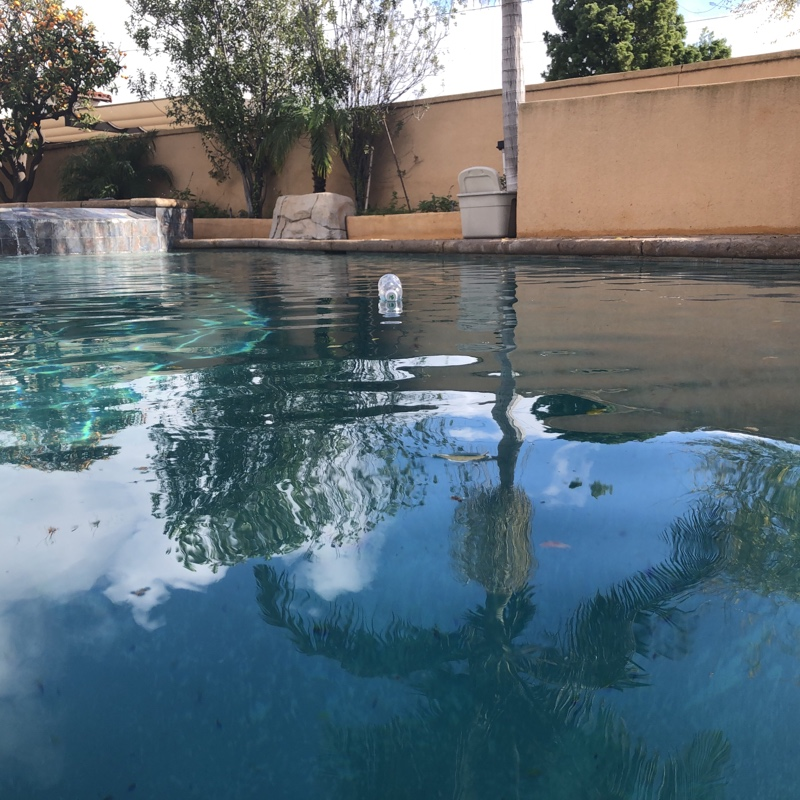Plastic Bottle: (376, 269, 401, 302)
